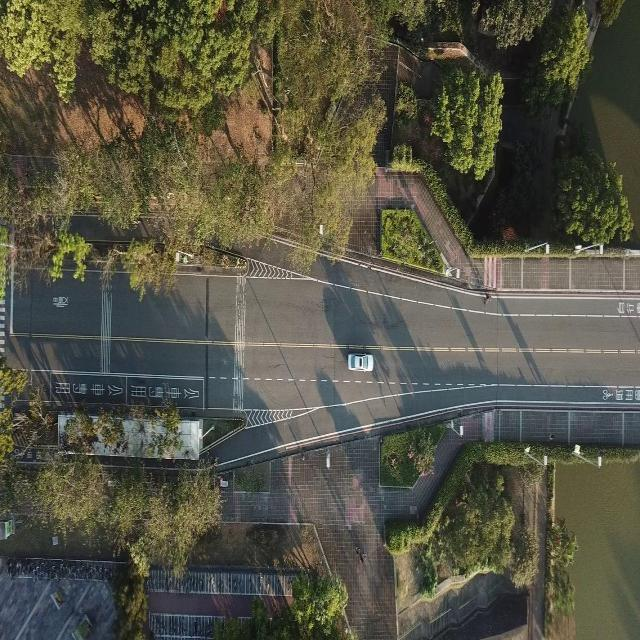car: (347, 352, 373, 372)
